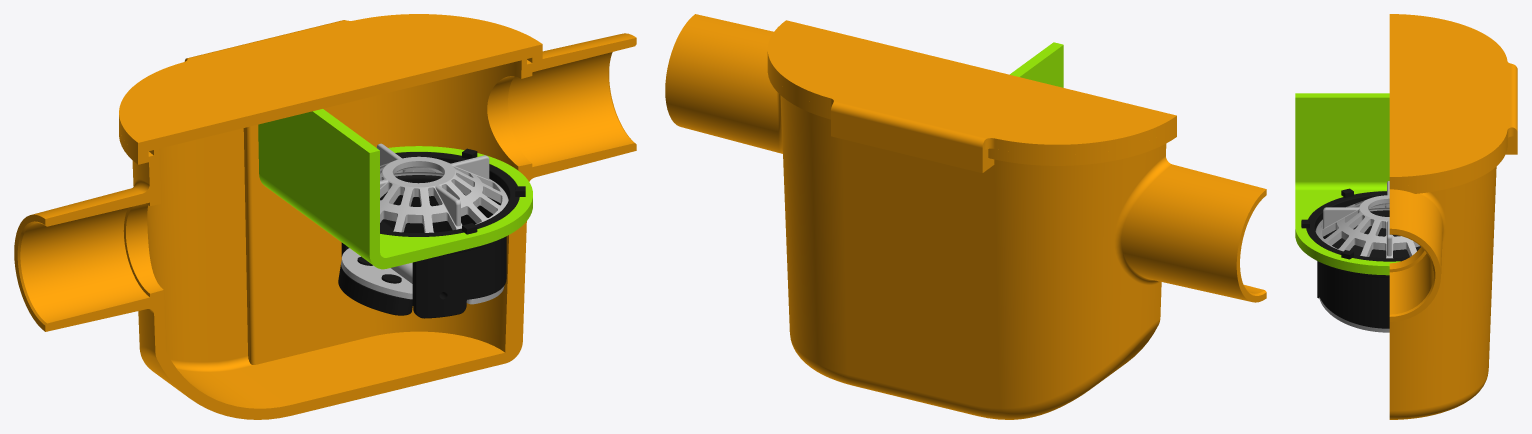
The model's file is cold-f.glb.
The picture shows the model from 3 angles, left to right: view 1: azimuth 30°, elevation 25°; view 2: azimuth 150°, elevation 25°; view 3: azimuth 270°, elevation 25°; orthographic projection. The views are drawn at different scales.
Parts seen in each view (by area): view 1: BA113_MAIN_BODY_A1, COVER_01_123, BA113-INSIDE_A1, PK505_2INCH_BASE, FILTER_45MM, PK505_2INCH_COVER, PK505_STONE; view 2: BA113_MAIN_BODY_A1, COVER_01_123, BA113-INSIDE_A1; view 3: BA113_MAIN_BODY_A1, COVER_01_123, BA113-INSIDE_A1, PK505_2INCH_BASE, FILTER_45MM, PK505_2INCH_COVER.
Boxes of the visible parts, x1,y1,x2,y2 form: BA113_MAIN_BODY_A1: (14, 33, 636, 419); COVER_01_123: (119, 14, 542, 153); BA113-INSIDE_A1: (258, 109, 532, 269); PK505_2INCH_BASE: (341, 148, 525, 318); FILTER_45MM: (376, 143, 508, 232); PK505_2INCH_COVER: (341, 248, 504, 304); PK505_STONE: (338, 256, 412, 315); BA113_MAIN_BODY_A1: (665, 14, 1266, 419); COVER_01_123: (767, 20, 1176, 173); BA113-INSIDE_A1: (1010, 42, 1063, 87); BA113_MAIN_BODY_A1: (1389, 139, 1507, 419); COVER_01_123: (1389, 14, 1517, 185); BA113-INSIDE_A1: (1295, 93, 1400, 275); PK505_2INCH_BASE: (1301, 188, 1420, 328); FILTER_45MM: (1315, 181, 1419, 258); PK505_2INCH_COVER: (1319, 297, 1389, 332).
Size of the model in its own units: 0.1696 by 0.085 by 0.0669.
